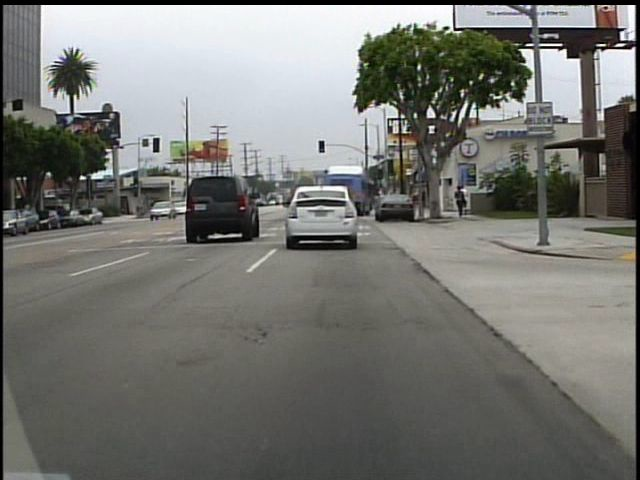person: (453, 185, 467, 223), (461, 183, 471, 217)
